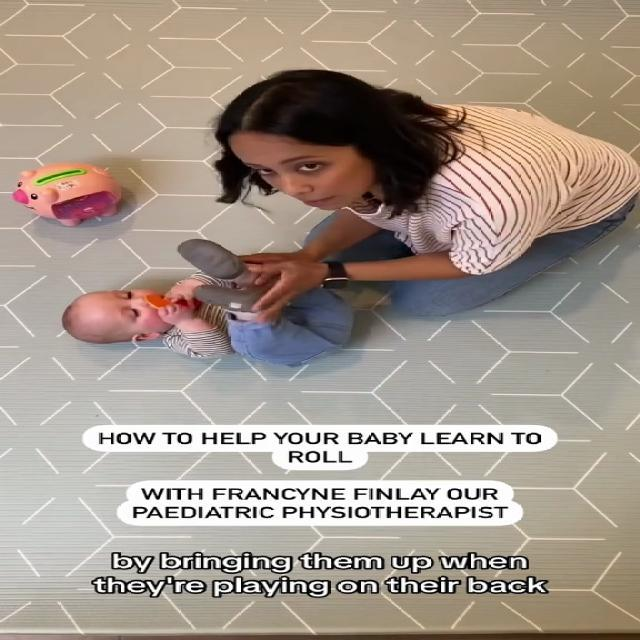baby: (58, 237, 372, 375)
